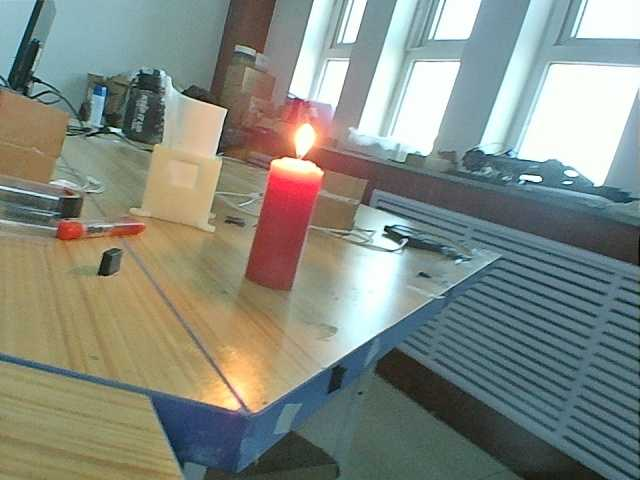candle: (235, 150, 328, 305)
fire: (272, 117, 330, 176)
